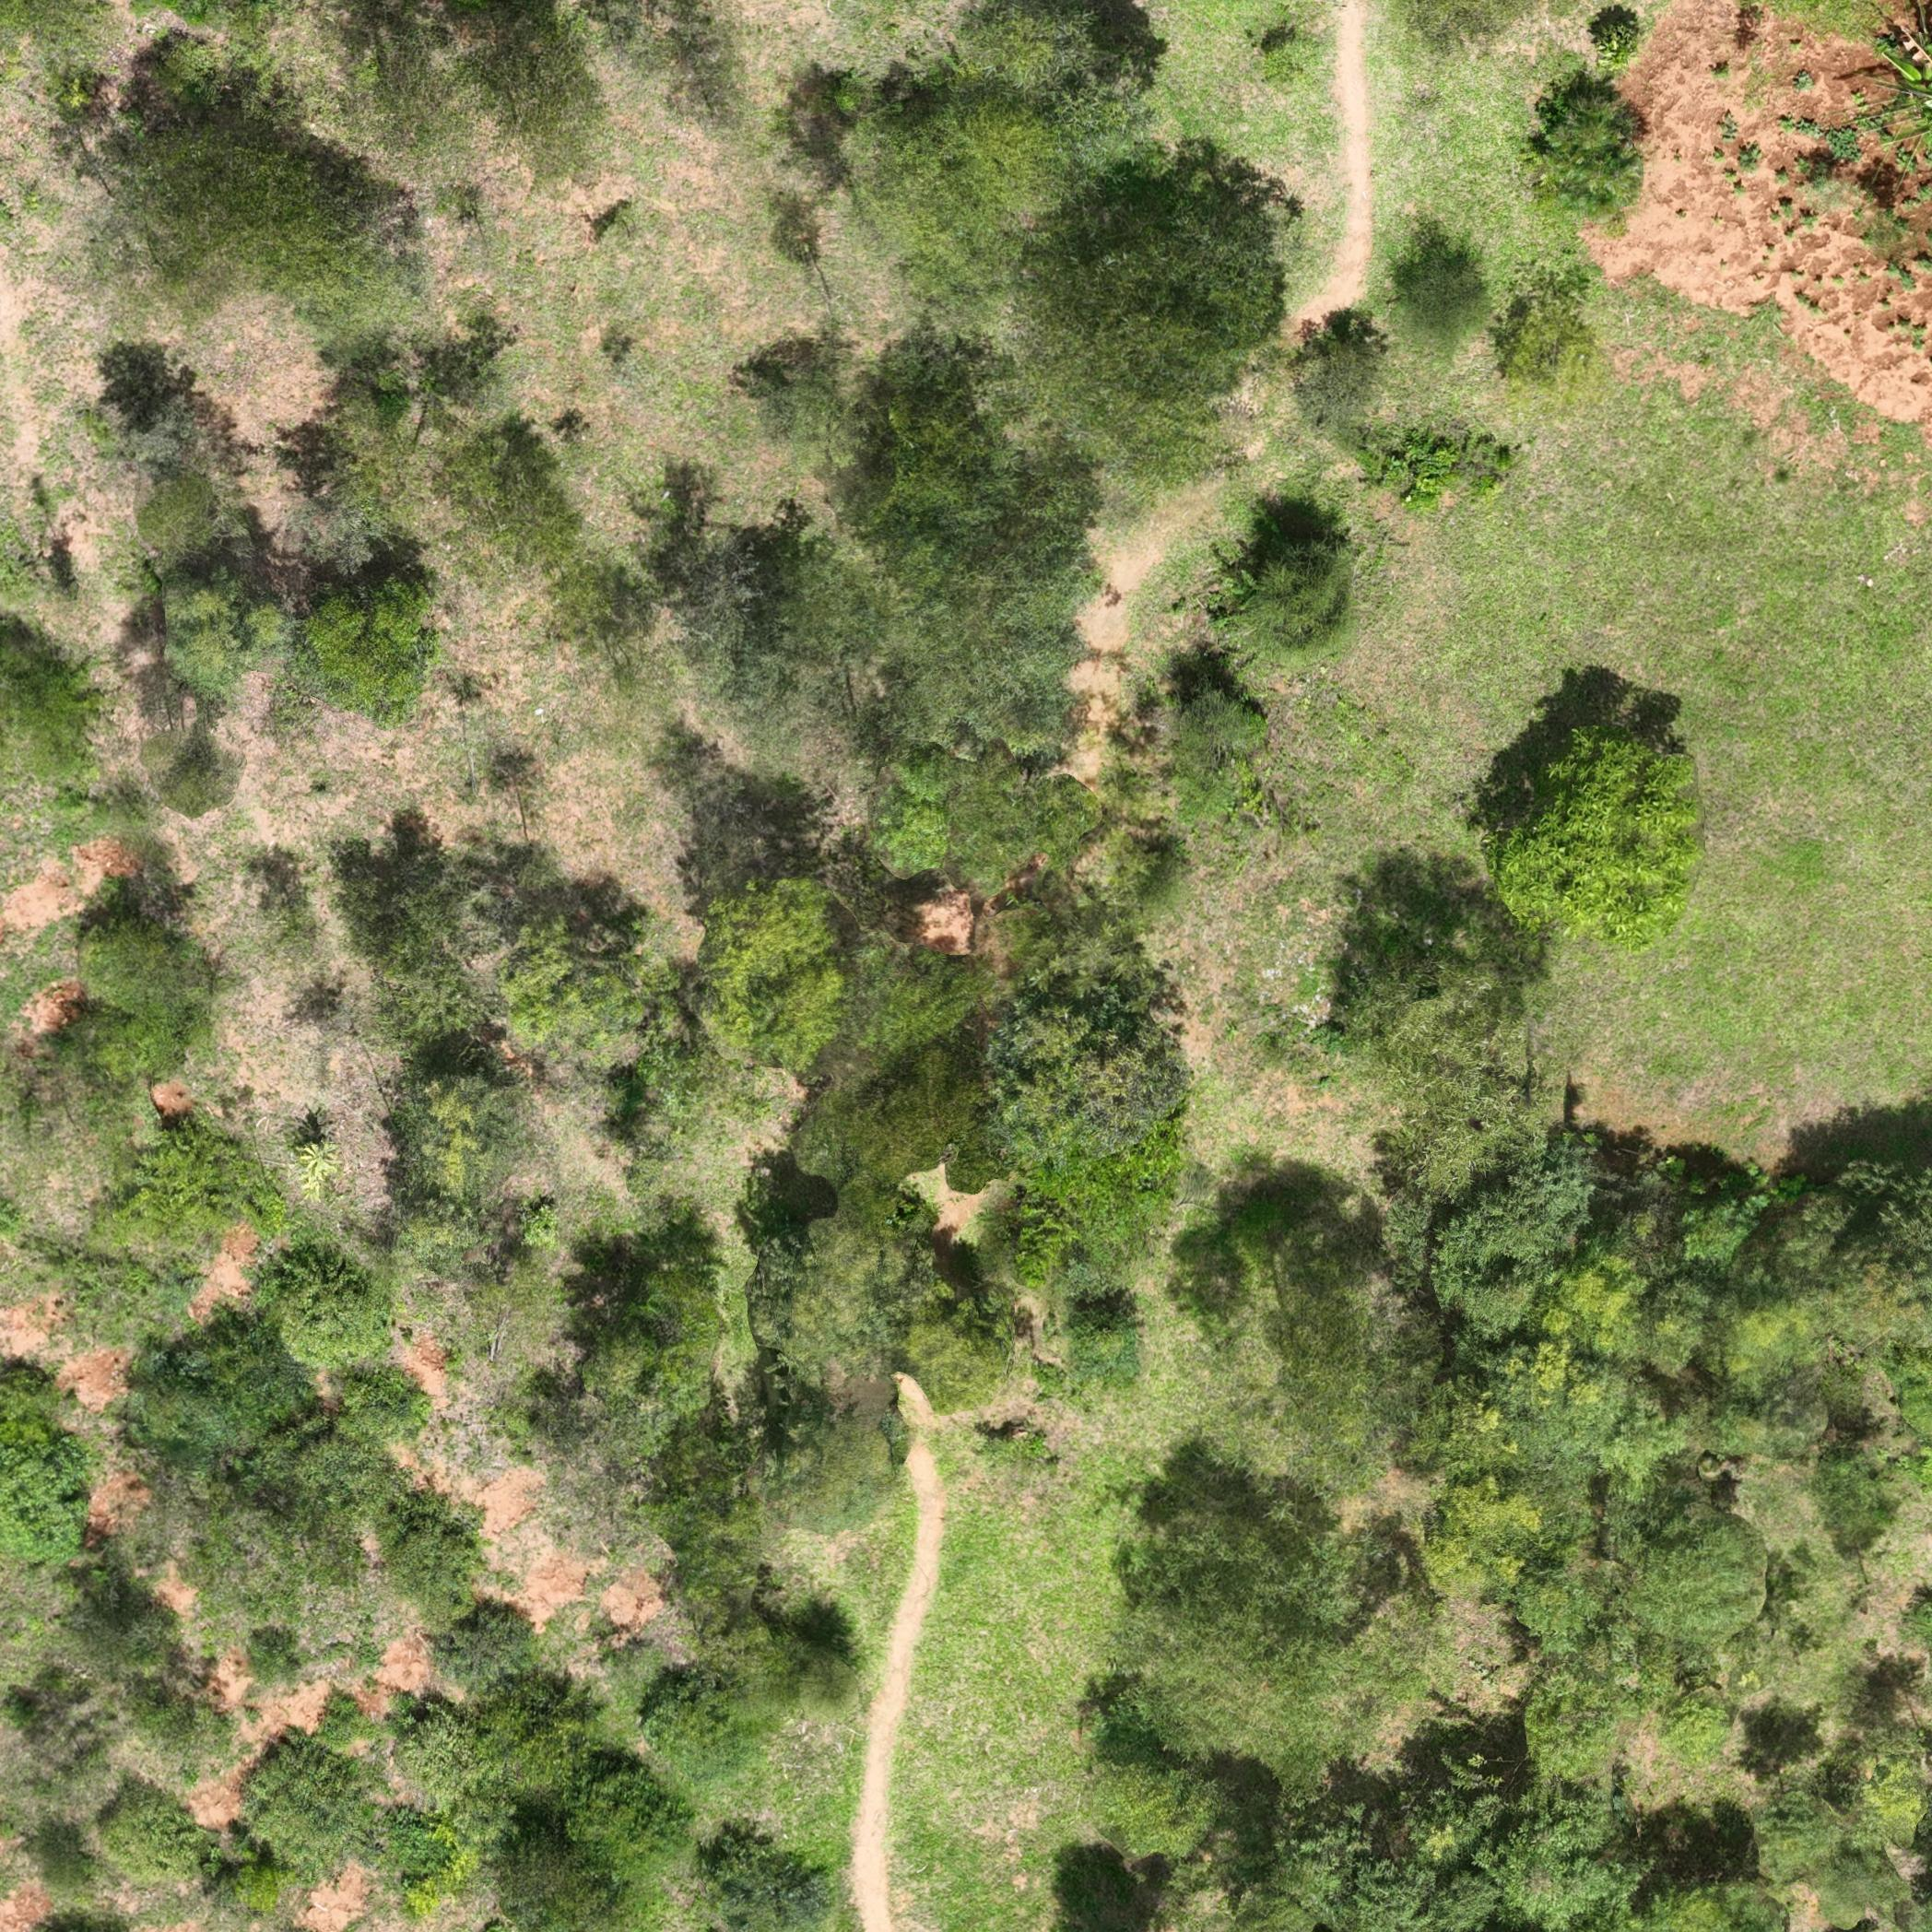Banana: (1870, 14, 1930, 143)
